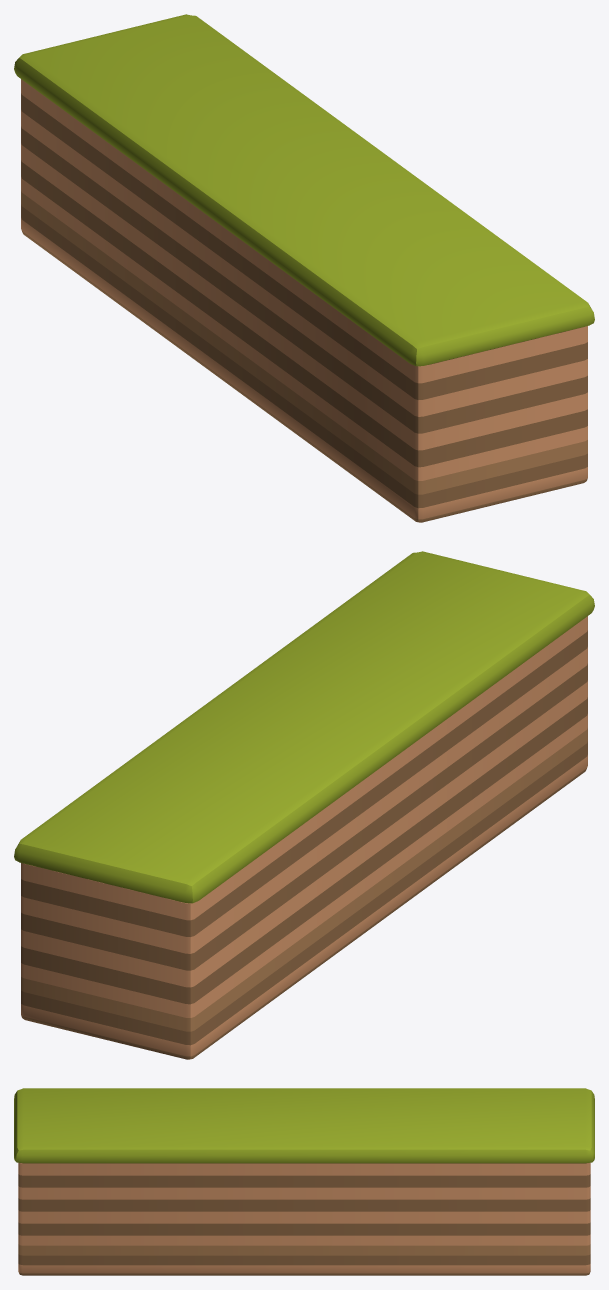
File: Ground_Obstacle_Tall.fbx
3 views of the same model, one above another, from view 1: azimuth 30°, elevation 25°; view 2: azimuth 150°, elevation 25°; view 3: azimuth 270°, elevation 25° (orthographic). The views are drawn at different scales.
Visible parts, largest first — view 1: Cube_Grass_Single; view 2: Cube_Grass_Single; view 3: Cube_Grass_Single.
Part boxes in pixels (x1,y1,x2,y2): Cube_Grass_Single: (14,14,594,522); Cube_Grass_Single: (14,551,594,1059); Cube_Grass_Single: (14,1088,594,1275).
Bounding box in the file's own units: 423 × 400 × 1623.
